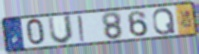0: (24, 17, 47, 48)
6: (127, 10, 150, 37)
8: (101, 11, 125, 41)
I: (76, 14, 87, 43)
Q: (151, 7, 177, 36)
U: (46, 14, 75, 45)
